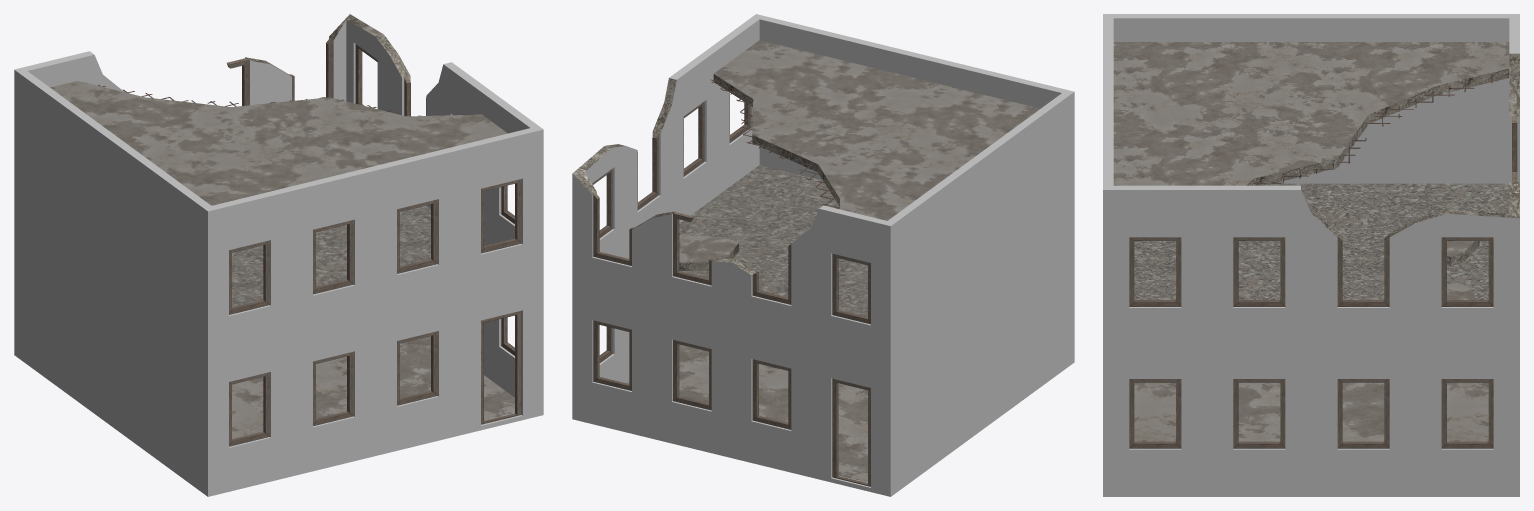
File: Building_B_Destroyed.fbx
The picture shows the model from 3 angles, left to right: view 1: azimuth 30°, elevation 25°; view 2: azimuth 150°, elevation 25°; view 3: azimuth 270°, elevation 25°; orthographic projection. The views are drawn at different scales.
Visible parts, largest first — view 1: Walls, Rooftop, Windows, Floor_Ground, Floor_Center, Broken_Concrete; view 2: Walls, Rooftop, Floor_Center, Windows, Floor_Ground, Broken_Concrete, Rubble, Rebar; view 3: Walls, Rooftop, Floor_Center, Windows, Floor_Ground, Broken_Concrete, Rubble, Rebar.
Part boxes in pixels (x1,y1,x2,y2): Walls: (14, 20, 543, 496); Rooftop: (50, 80, 507, 205); Windows: (124, 37, 521, 446); Floor_Ground: (232, 336, 514, 438); Floor_Center: (232, 205, 430, 307); Broken_Concrete: (245, 14, 410, 77); Walls: (572, 14, 1074, 496); Rooftop: (714, 40, 1040, 220); Floor_Center: (679, 165, 867, 317); Windows: (592, 92, 870, 486); Floor_Ground: (627, 344, 867, 482); Broken_Concrete: (572, 74, 839, 275); Rubble: (679, 235, 788, 297); Rebar: (711, 79, 839, 208); Walls: (1103, 14, 1519, 496); Rooftop: (1113, 42, 1509, 185); Floor_Center: (1134, 183, 1509, 299); Windows: (1129, 116, 1517, 448); Floor_Ground: (1134, 382, 1488, 441); Broken_Concrete: (1246, 53, 1519, 265); Rubble: (1343, 241, 1476, 299); Rebar: (1253, 73, 1509, 185).
Size of the model in its own units: 800 by 650 by 800.
